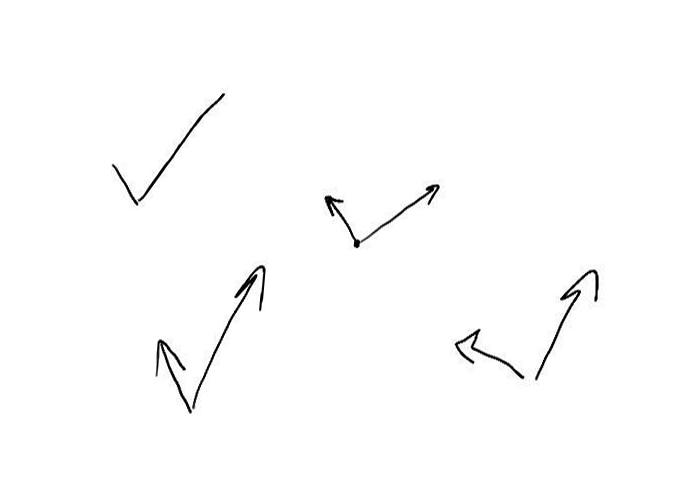arrow: (192, 265, 266, 404), (537, 268, 601, 378), (360, 183, 444, 246), (454, 329, 526, 379), (151, 338, 190, 410), (325, 194, 356, 243)
arrownohead: (140, 90, 227, 200), (112, 163, 137, 205)
